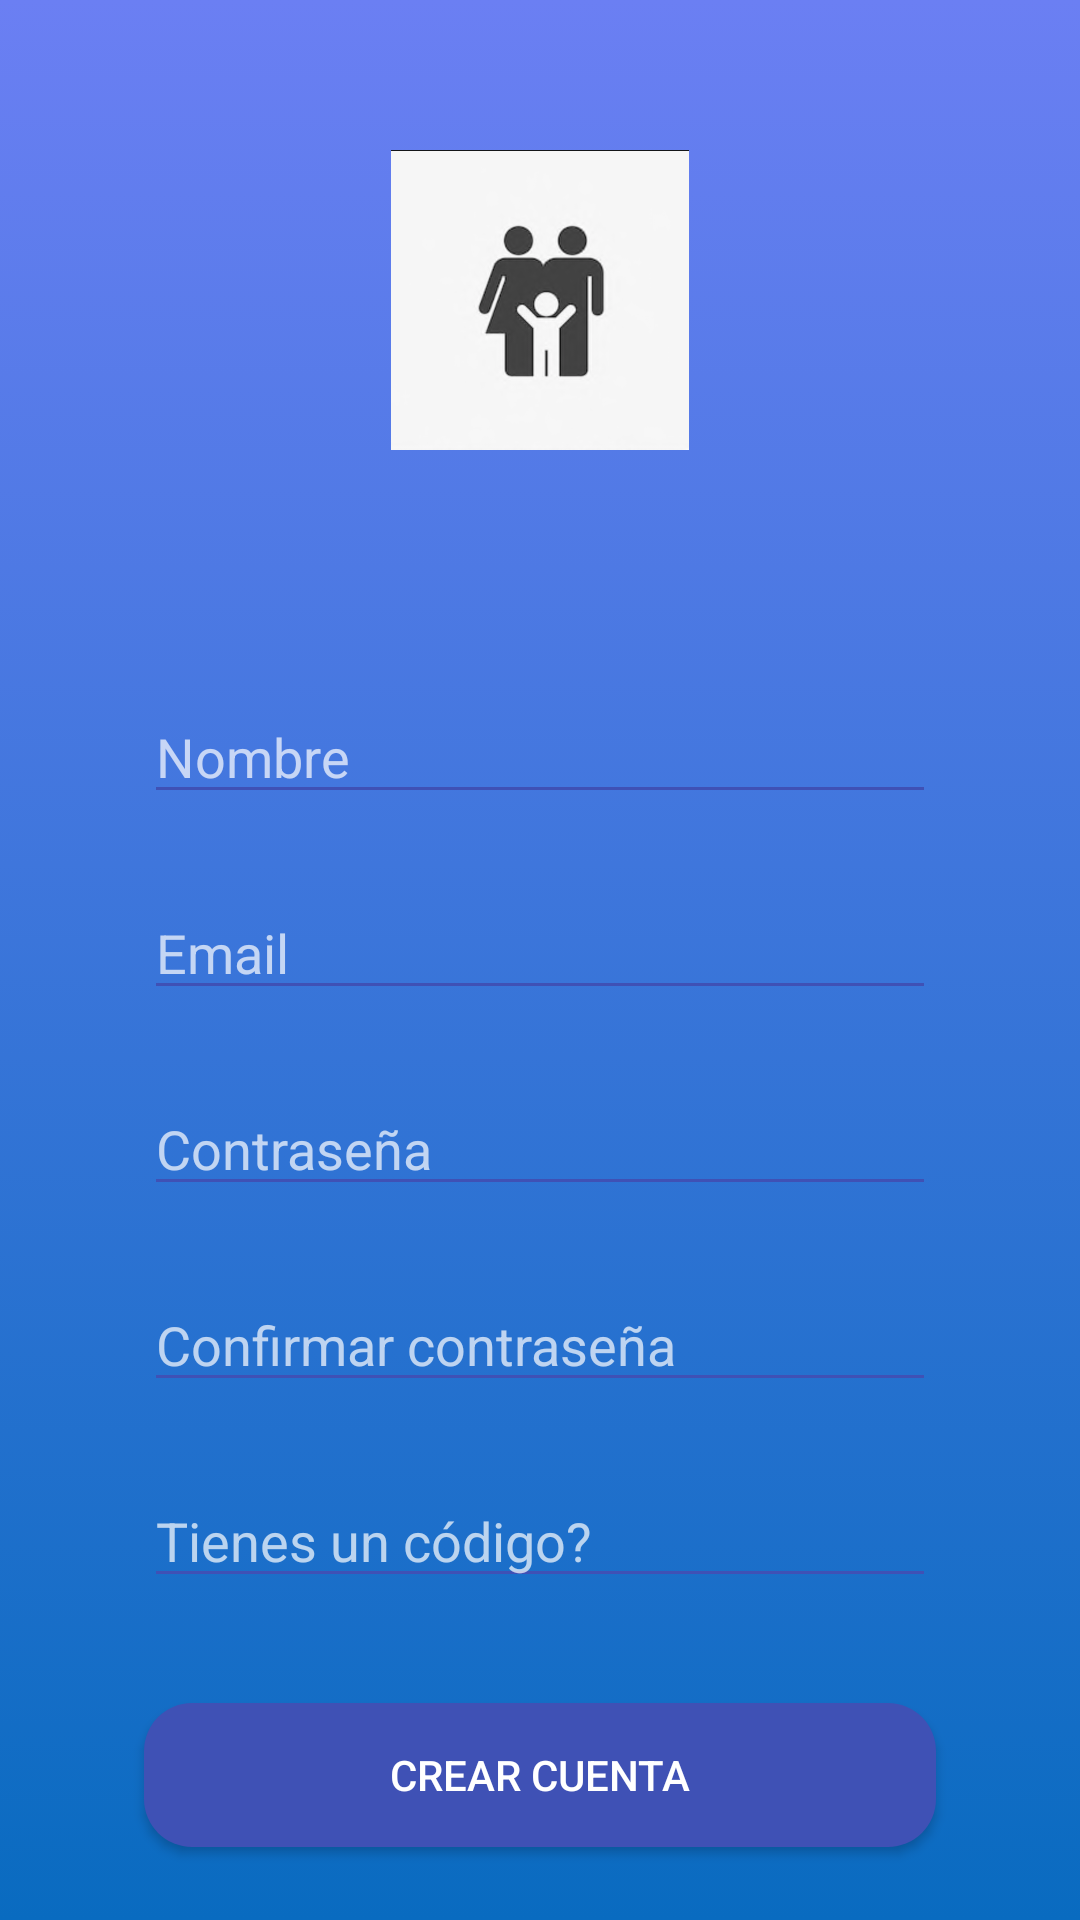

Point at icon controls on the screen. Image size 1080 × 1920, points as (x=x, y=y).
family: (x=540, y=300)
